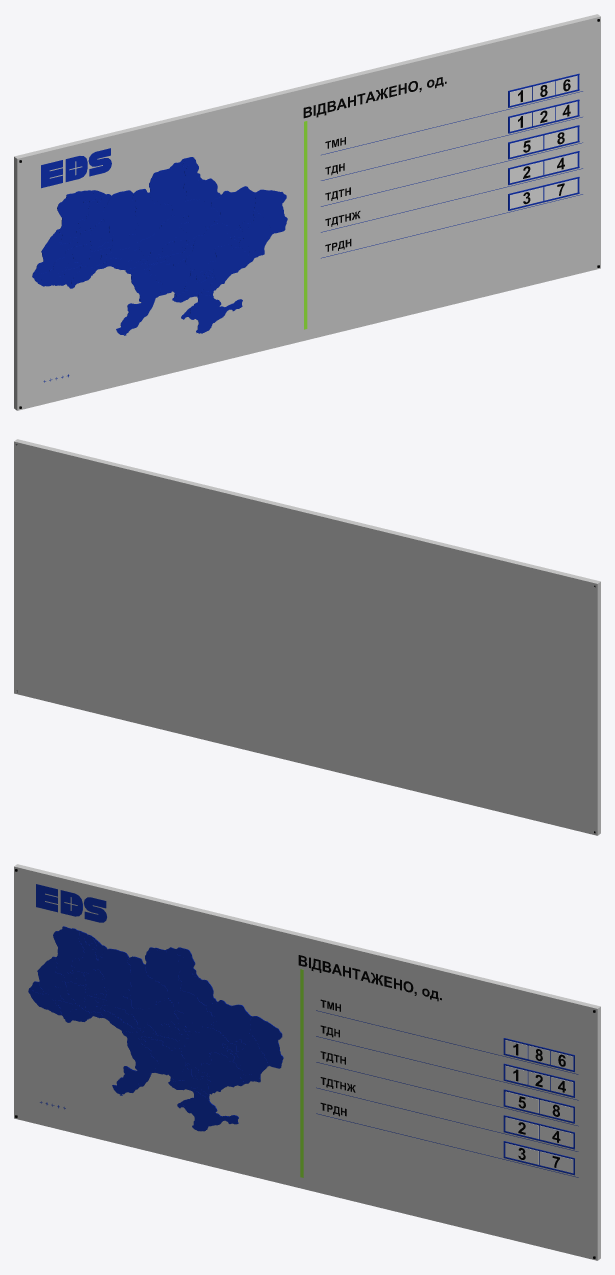
File: edsUkraine-1.glb
3 views of the same model, one above another, from view 1: azimuth 30°, elevation 25°; view 2: azimuth 150°, elevation 25°; view 3: azimuth 330°, elevation 25° (orthographic).
Visible parts, largest first — view 1: ukraine-1/EDS_ukraine_backing_white, ukraine-1/EDS_ukraine_3d-map_blue, ukraine-1/EDS_ukraine_replaceable-card_white, ukraine-1/EDS_ukraine_ink_blue, ukraine-1/EDS_ukraine_ink_black, ukraine-1/EDS_ukraine_replaceable-rail_blue, ukraine-1/EDS_ukraine_replaceable-steel_blue, ukraine-1/EDS_ukraine_motif_lime, ukraine-1/EDS_ukraine_replaceable-print_black; view 2: ukraine-1/EDS_ukraine_backing_white; view 3: ukraine-1/EDS_ukraine_backing_white, ukraine-1/EDS_ukraine_3d-map_blue, ukraine-1/EDS_ukraine_replaceable-card_white, ukraine-1/EDS_ukraine_ink_blue, ukraine-1/EDS_ukraine_ink_black, ukraine-1/EDS_ukraine_replaceable-rail_blue, ukraine-1/EDS_ukraine_replaceable-steel_blue, ukraine-1/EDS_ukraine_motif_lime, ukraine-1/EDS_ukraine_replaceable-print_black.
Boxes of the visible parts, bbox=[...] form: ukraine-1/EDS_ukraine_backing_white: bbox=[14, 14, 600, 410]; ukraine-1/EDS_ukraine_3d-map_blue: bbox=[32, 157, 287, 335]; ukraine-1/EDS_ukraine_replaceable-card_white: bbox=[510, 75, 577, 208]; ukraine-1/EDS_ukraine_ink_blue: bbox=[41, 91, 582, 258]; ukraine-1/EDS_ukraine_ink_black: bbox=[303, 77, 446, 251]; ukraine-1/EDS_ukraine_replaceable-rail_blue: bbox=[508, 74, 579, 210]; ukraine-1/EDS_ukraine_replaceable-steel_blue: bbox=[508, 73, 579, 210]; ukraine-1/EDS_ukraine_motif_lime: bbox=[304, 121, 307, 329]; ukraine-1/EDS_ukraine_replaceable-print_black: bbox=[518, 79, 570, 204]; ukraine-1/EDS_ukraine_backing_white: bbox=[14, 439, 600, 835]; ukraine-1/EDS_ukraine_backing_white: bbox=[14, 864, 600, 1260]; ukraine-1/EDS_ukraine_3d-map_blue: bbox=[28, 926, 283, 1131]; ukraine-1/EDS_ukraine_replaceable-card_white: bbox=[505, 1040, 573, 1173]; ukraine-1/EDS_ukraine_ink_blue: bbox=[36, 884, 578, 1177]; ukraine-1/EDS_ukraine_ink_black: bbox=[298, 955, 441, 1116]; ukraine-1/EDS_ukraine_replaceable-rail_blue: bbox=[503, 1038, 574, 1175]; ukraine-1/EDS_ukraine_replaceable-steel_blue: bbox=[504, 1038, 574, 1173]; ukraine-1/EDS_ukraine_motif_lime: bbox=[300, 969, 303, 1177]; ukraine-1/EDS_ukraine_replaceable-print_black: bbox=[513, 1043, 565, 1167].
Bounding box in the file's own units: 3.2 × 1.32 × 0.04.
